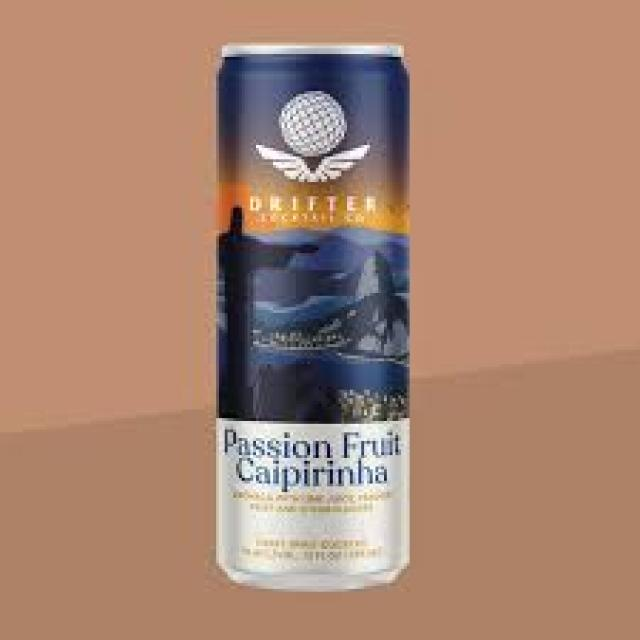Cans: (205, 26, 426, 597)
